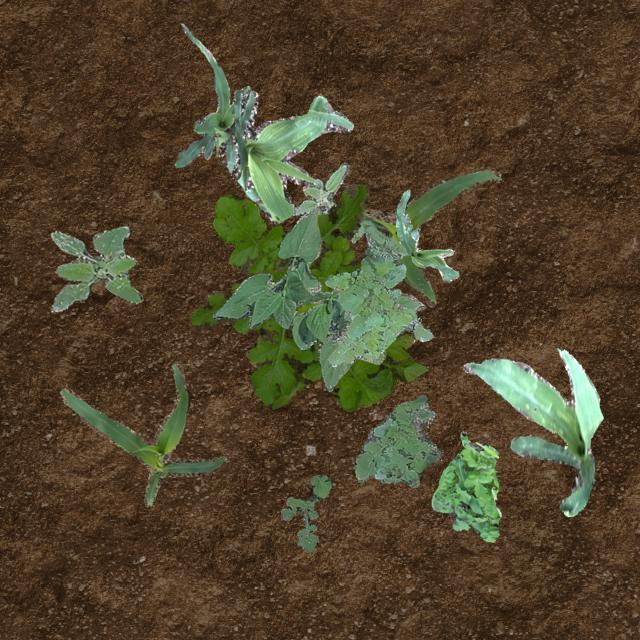crop: (212, 206, 424, 390), (58, 360, 226, 506), (462, 348, 602, 516), (359, 168, 500, 306), (212, 88, 352, 224), (173, 22, 250, 166), (394, 188, 458, 280)
weed: (190, 182, 426, 410), (324, 220, 432, 366), (352, 394, 440, 486), (430, 431, 500, 542), (50, 226, 142, 310), (292, 162, 363, 242), (280, 472, 330, 552)
